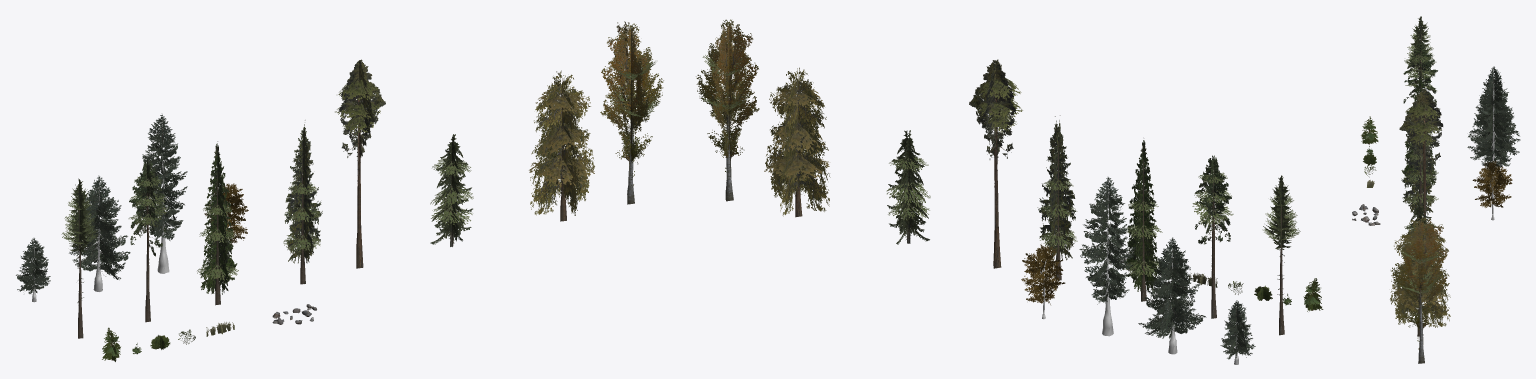
Rendered from Tree_Pack.fbx.
3 views of the same model, side by side, from view 1: azimuth 30°, elevation 25°; view 2: azimuth 150°, elevation 25°; view 3: azimuth 270°, elevation 25° (orthographic). The views are drawn at different scales.
Parts seen in each view (by area): view 1: Background_Tree_Atlas.004, Background_Tree_Atlas.001, Background_Tree_Atlas, Background_Tree_Atlas.005, Background_Tree_Atlas.003, Tree_Branches_01.002, Tree_Branches_01, Background_Tree_Atlas.002, Background_Tree_Atlas.007, Background_Tree_Atlas.006, Tree_Branches_01.001, Tree_Branches_02; view 2: Background_Tree_Atlas.004, Background_Tree_Atlas.001, Tree_Branches_01, Tree_Branches_01.002, Background_Tree_Atlas.005, Background_Tree_Atlas, Background_Tree_Atlas.003, Background_Tree_Atlas.002, Background_Tree_Atlas.007, Background_Tree_Atlas.006, Tree_Branches_02, Tree_Branches_01.001 (+1 smaller); view 3: Background_Tree_Atlas.001, Tree_Branches_01, Background_Tree_Atlas.004, Background_Tree_Atlas.005, Background_Tree_Atlas.003, Tree_Branches_01.002, Tree_Branches_02, Background_Tree_Atlas.007, Background_Tree_Atlas.006, Background_Tree_Atlas, Background_Tree_Atlas.009, Background_Tree_Atlas.002 (+1 smaller).
Part boxes in pixels (left/top/right/bottom): Background_Tree_Atlas.004: left=529, top=70, right=594, bottom=221; Background_Tree_Atlas.001: left=600, top=21, right=663, bottom=204; Background_Tree_Atlas: left=197, top=141, right=238, bottom=305; Background_Tree_Atlas.005: left=335, top=59, right=385, bottom=268; Background_Tree_Atlas.003: left=283, top=120, right=322, bottom=284; Tree_Branches_01.002: left=68, top=175, right=130, bottom=279; Tree_Branches_01: left=139, top=114, right=187, bottom=240; Background_Tree_Atlas.002: left=430, top=134, right=473, bottom=246; Background_Tree_Atlas.007: left=128, top=159, right=168, bottom=322; Background_Tree_Atlas.006: left=61, top=178, right=97, bottom=338; Tree_Branches_01.001: left=16, top=238, right=50, bottom=293; Tree_Branches_02: left=204, top=183, right=248, bottom=244; Background_Tree_Atlas.004: left=764, top=67, right=830, bottom=217; Background_Tree_Atlas.001: left=696, top=19, right=759, bottom=201; Tree_Branches_01: left=1079, top=177, right=1135, bottom=304; Tree_Branches_01.002: left=1138, top=237, right=1206, bottom=338; Background_Tree_Atlas.005: left=969, top=59, right=1022, bottom=268; Background_Tree_Atlas: left=1123, top=140, right=1162, bottom=301; Background_Tree_Atlas.003: left=1037, top=115, right=1077, bottom=280; Background_Tree_Atlas.002: left=886, top=130, right=930, bottom=244; Background_Tree_Atlas.007: left=1192, top=155, right=1233, bottom=318; Background_Tree_Atlas.006: left=1262, top=175, right=1300, bottom=335; Tree_Branches_02: left=1021, top=244, right=1065, bottom=304; Tree_Branches_01.001: left=1220, top=300, right=1255, bottom=359; Background_Tree_Atlas.001: left=1390, top=217, right=1449, bottom=363; Tree_Branches_01: left=1474, top=66, right=1511, bottom=167; Background_Tree_Atlas.004: left=1390, top=215, right=1450, bottom=336; Background_Tree_Atlas.005: left=1399, top=89, right=1443, bottom=217; Background_Tree_Atlas.003: left=1401, top=123, right=1438, bottom=215; Tree_Branches_01.002: left=1467, top=81, right=1520, bottom=161; Tree_Branches_02: left=1472, top=161, right=1512, bottom=207; Background_Tree_Atlas.007: left=1403, top=40, right=1437, bottom=113; Background_Tree_Atlas.006: left=1404, top=16, right=1436, bottom=76; Background_Tree_Atlas: left=1401, top=69, right=1438, bottom=193; Background_Tree_Atlas.009: left=1361, top=116, right=1378, bottom=144; Background_Tree_Atlas.002: left=1401, top=201, right=1436, bottom=282.
Bounding box in the file's own units: 10115 × 3375 × 3038.
